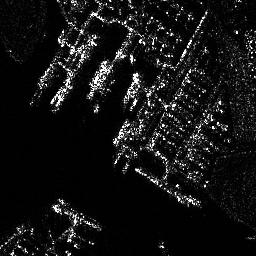ship: (49, 203, 104, 232), (120, 73, 141, 104), (89, 58, 107, 89), (111, 118, 130, 146), (54, 79, 72, 107)
